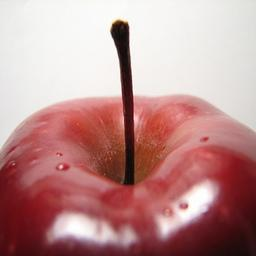apple: (0, 92, 255, 253)
